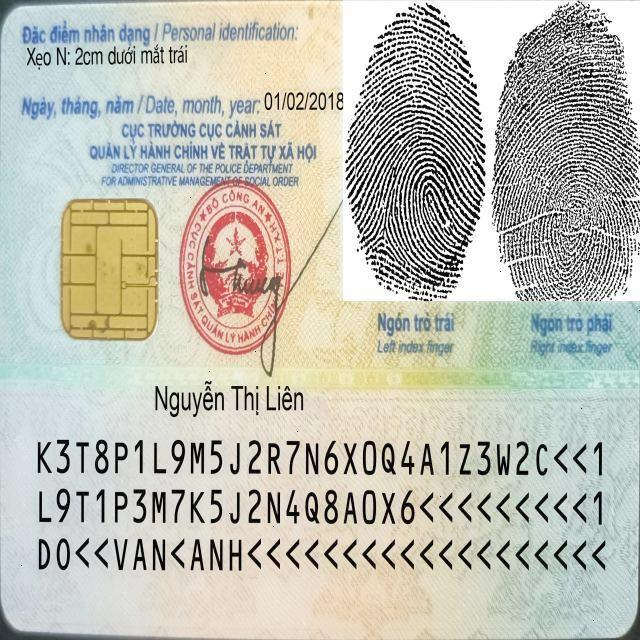features: (24, 40, 192, 74)
finger_print: (489, 3, 640, 356), (342, 2, 491, 359)
issue_date: (261, 83, 345, 117)
